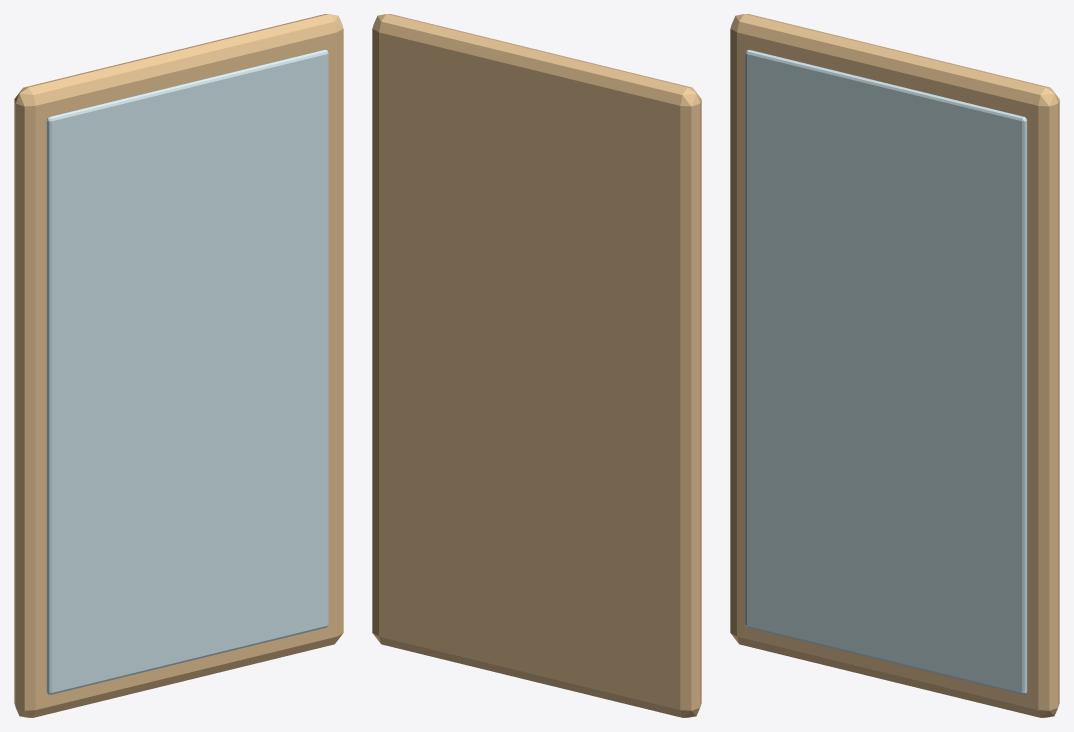
Rendered from cozy-home-interiors-living-mirror-59b8b171.glb.
The picture shows the model from 3 angles, left to right: view 1: azimuth 30°, elevation 25°; view 2: azimuth 150°, elevation 25°; view 3: azimuth 330°, elevation 25°; orthographic projection.
Parts seen in each view (by area): view 1: living-mirror; view 2: living-mirror; view 3: living-mirror.
Boxes of the visible parts, x1,y1,x2,y2 form: living-mirror: (14, 14, 343, 717); living-mirror: (372, 14, 701, 717); living-mirror: (730, 14, 1059, 717).
Size of the model in its own units: 0.65 by 1.2 by 0.061.
